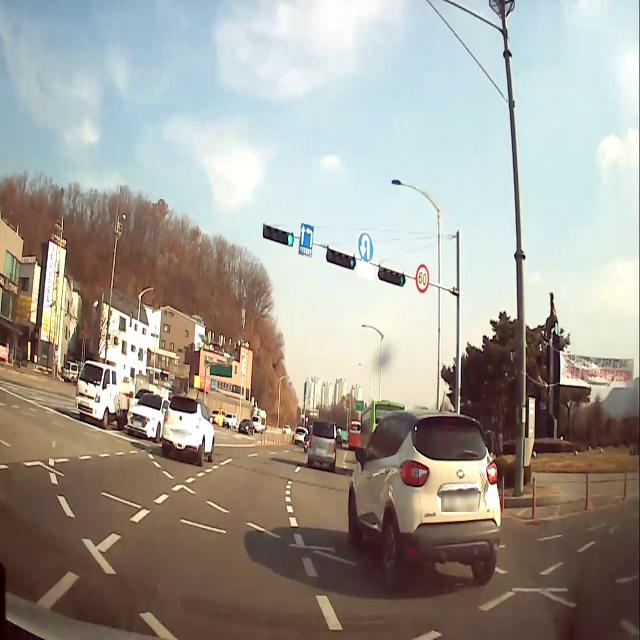Green Light: (286, 231, 294, 247), (348, 255, 354, 270), (399, 272, 405, 286)
